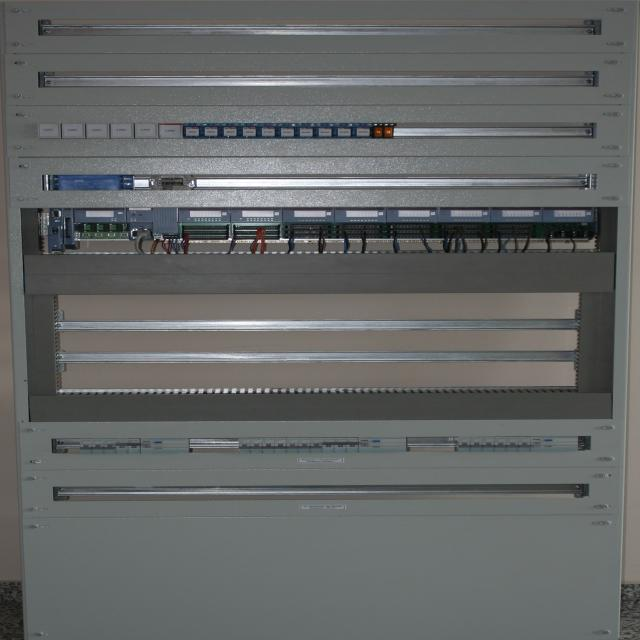Dimmer: (159, 123, 182, 138), (61, 124, 85, 138), (86, 124, 110, 138), (110, 124, 134, 138), (135, 124, 158, 138), (237, 123, 257, 139), (333, 123, 353, 139), (352, 123, 372, 139), (218, 123, 237, 139), (39, 124, 60, 138), (182, 123, 200, 139), (277, 123, 295, 139), (295, 123, 313, 139), (314, 123, 333, 138), (257, 124, 277, 138), (201, 124, 218, 138)
FI: (531, 436, 578, 452), (140, 438, 189, 453), (358, 437, 406, 452)
Leitungsschutzschalter: (79, 439, 92, 454), (238, 438, 251, 453), (250, 438, 263, 453), (92, 438, 104, 454), (104, 438, 116, 454), (128, 438, 140, 454), (483, 436, 495, 452), (494, 436, 506, 452), (506, 436, 518, 452), (518, 436, 530, 452), (274, 438, 287, 452), (310, 438, 323, 452), (458, 437, 471, 451), (263, 438, 275, 453), (117, 438, 128, 454), (298, 438, 310, 452), (322, 438, 334, 452), (346, 438, 358, 452), (471, 437, 483, 451), (287, 438, 298, 452), (335, 438, 346, 452)
SPS-System -Steuerungskomponente-: (75, 208, 177, 222), (386, 207, 438, 223), (335, 206, 385, 222), (282, 207, 335, 222), (231, 207, 283, 222), (490, 207, 542, 222), (542, 207, 594, 222), (439, 207, 490, 222), (178, 208, 230, 222)
Schaltkasten: (0, 0, 640, 640)
